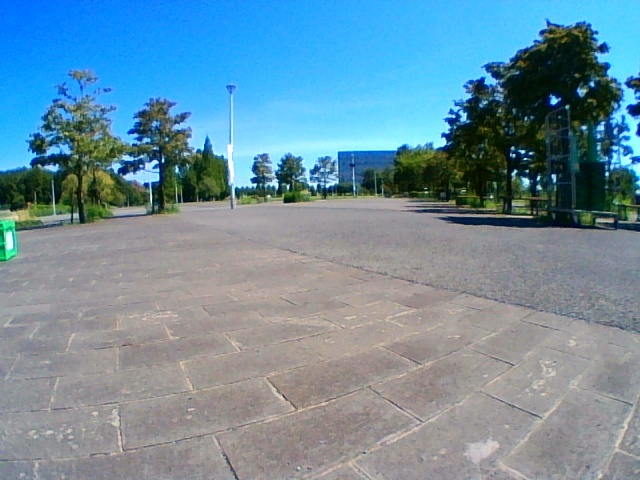green_box: (1, 220, 18, 263)
